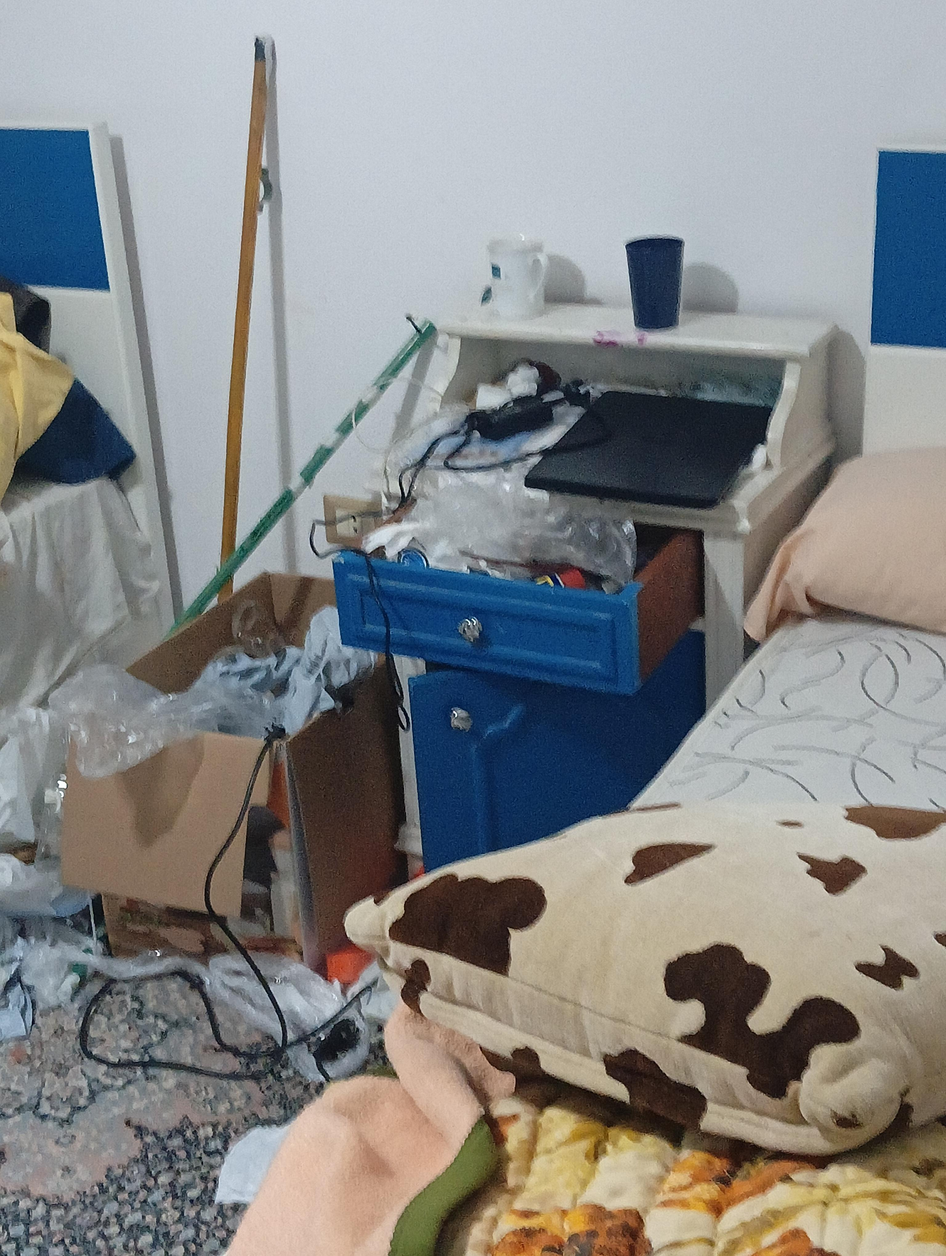cup: (625, 237, 683, 330), (488, 236, 548, 319)
